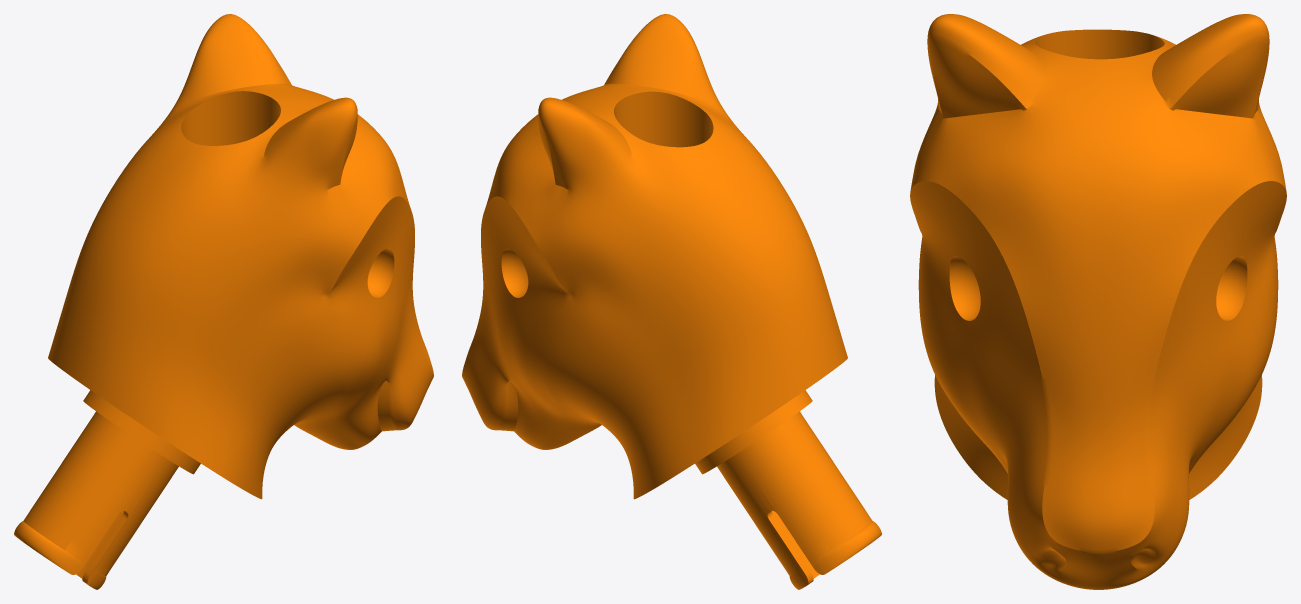
The model's file is Horse Head.glb.
3 renders of one model, left to right at view 1: azimuth 30°, elevation 25°; view 2: azimuth 150°, elevation 25°; view 3: azimuth 270°, elevation 25°, orthographic. The views are drawn at different scales.
Parts seen in each view (by area): view 1: Horse Head; view 2: Horse Head; view 3: Horse Head.
Part boxes in pixels (x1,y1,x2,y2): Horse Head: [14, 14, 433, 589]; Horse Head: [462, 14, 881, 589]; Horse Head: [910, 14, 1286, 589].
Size of the model in its own units: 0.0277 by 0.0315 by 0.0174.
